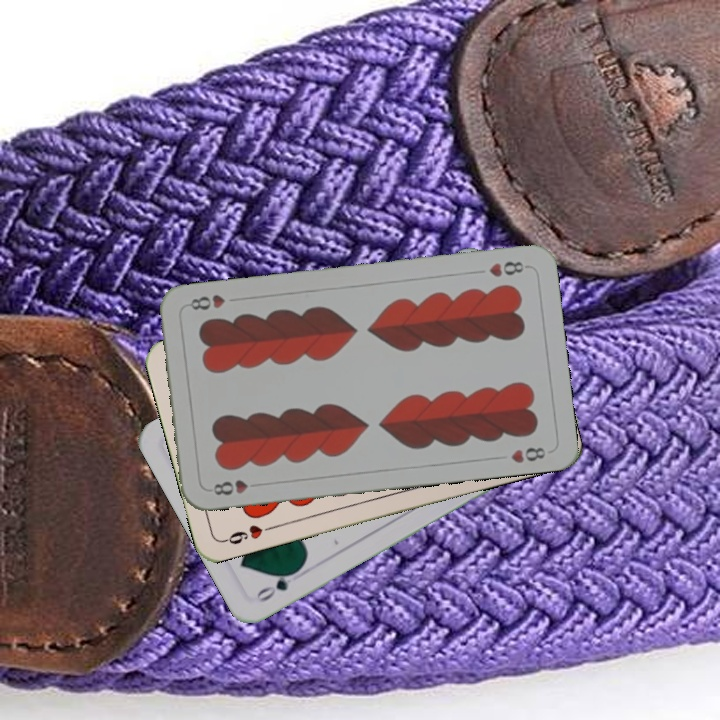GO: (251, 564, 303, 605)
H8: (485, 257, 531, 280), (209, 476, 250, 498)
H9: (219, 520, 277, 547)
